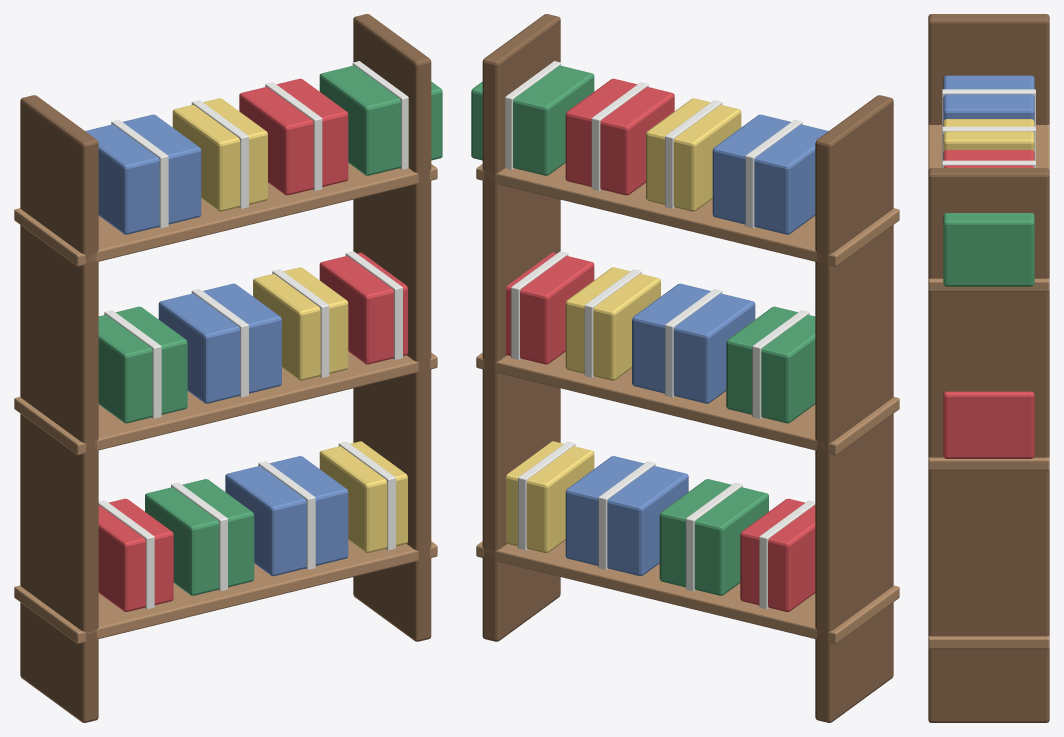
Rendered from GiftShelf.fbx.
The picture shows the model from 3 angles, left to right: view 1: azimuth 30°, elevation 25°; view 2: azimuth 150°, elevation 25°; view 3: azimuth 270°, elevation 25°; orthographic projection. The views are drawn at different scales.
Parts seen in each view (by area): view 1: GiftShelf; view 2: GiftShelf; view 3: GiftShelf.
Boxes of the visible parts, box(x1,y1,x2,y2) form: GiftShelf: box(14, 14, 442, 722); GiftShelf: box(471, 14, 899, 722); GiftShelf: box(928, 14, 1049, 722).
Bounding box in the file's own units: 135 × 200 × 40.
